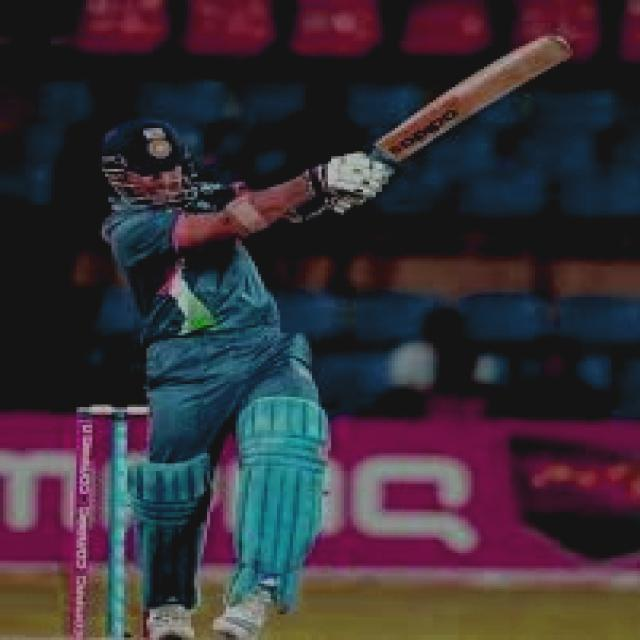toe: (502, 34, 579, 84)
